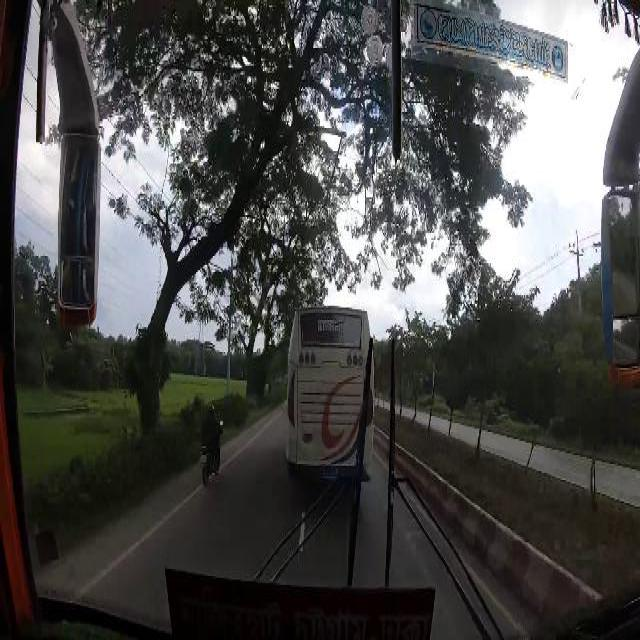bus: (284, 302, 370, 482)
motorcycle: (197, 398, 220, 482)
